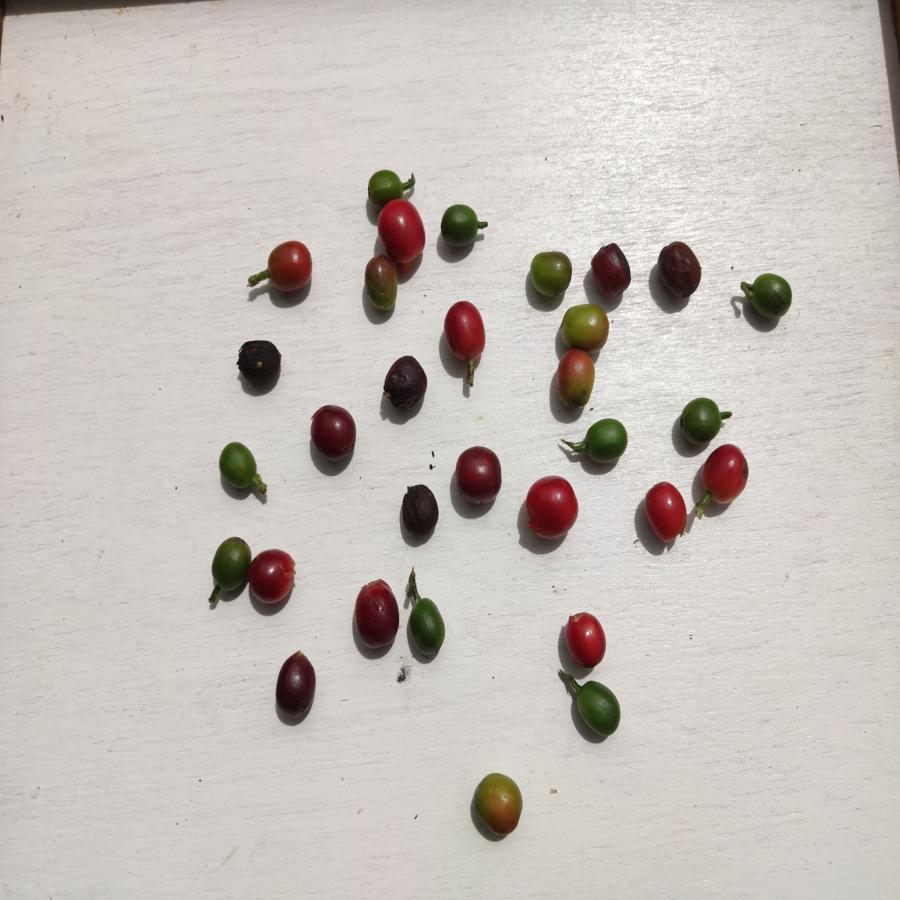Inmaduro: (574, 679, 622, 739), (407, 595, 448, 661), (218, 441, 259, 495), (749, 271, 793, 321), (210, 537, 247, 595), (583, 418, 627, 466), (679, 396, 720, 445), (438, 203, 480, 250), (367, 168, 409, 201)
Maduro: (525, 475, 578, 541), (442, 299, 489, 365), (641, 481, 690, 544), (248, 548, 297, 608), (378, 200, 427, 259), (703, 444, 750, 505), (265, 240, 313, 296), (564, 609, 605, 670)
Pinton: (471, 772, 524, 837), (554, 348, 597, 410), (561, 303, 611, 350), (530, 247, 573, 299), (365, 256, 398, 317)
Sobremaduro: (352, 578, 401, 652), (307, 402, 358, 467), (454, 445, 502, 505), (380, 354, 428, 412), (656, 240, 703, 299), (276, 653, 318, 719), (234, 337, 282, 389), (399, 480, 440, 540), (591, 242, 633, 299)
